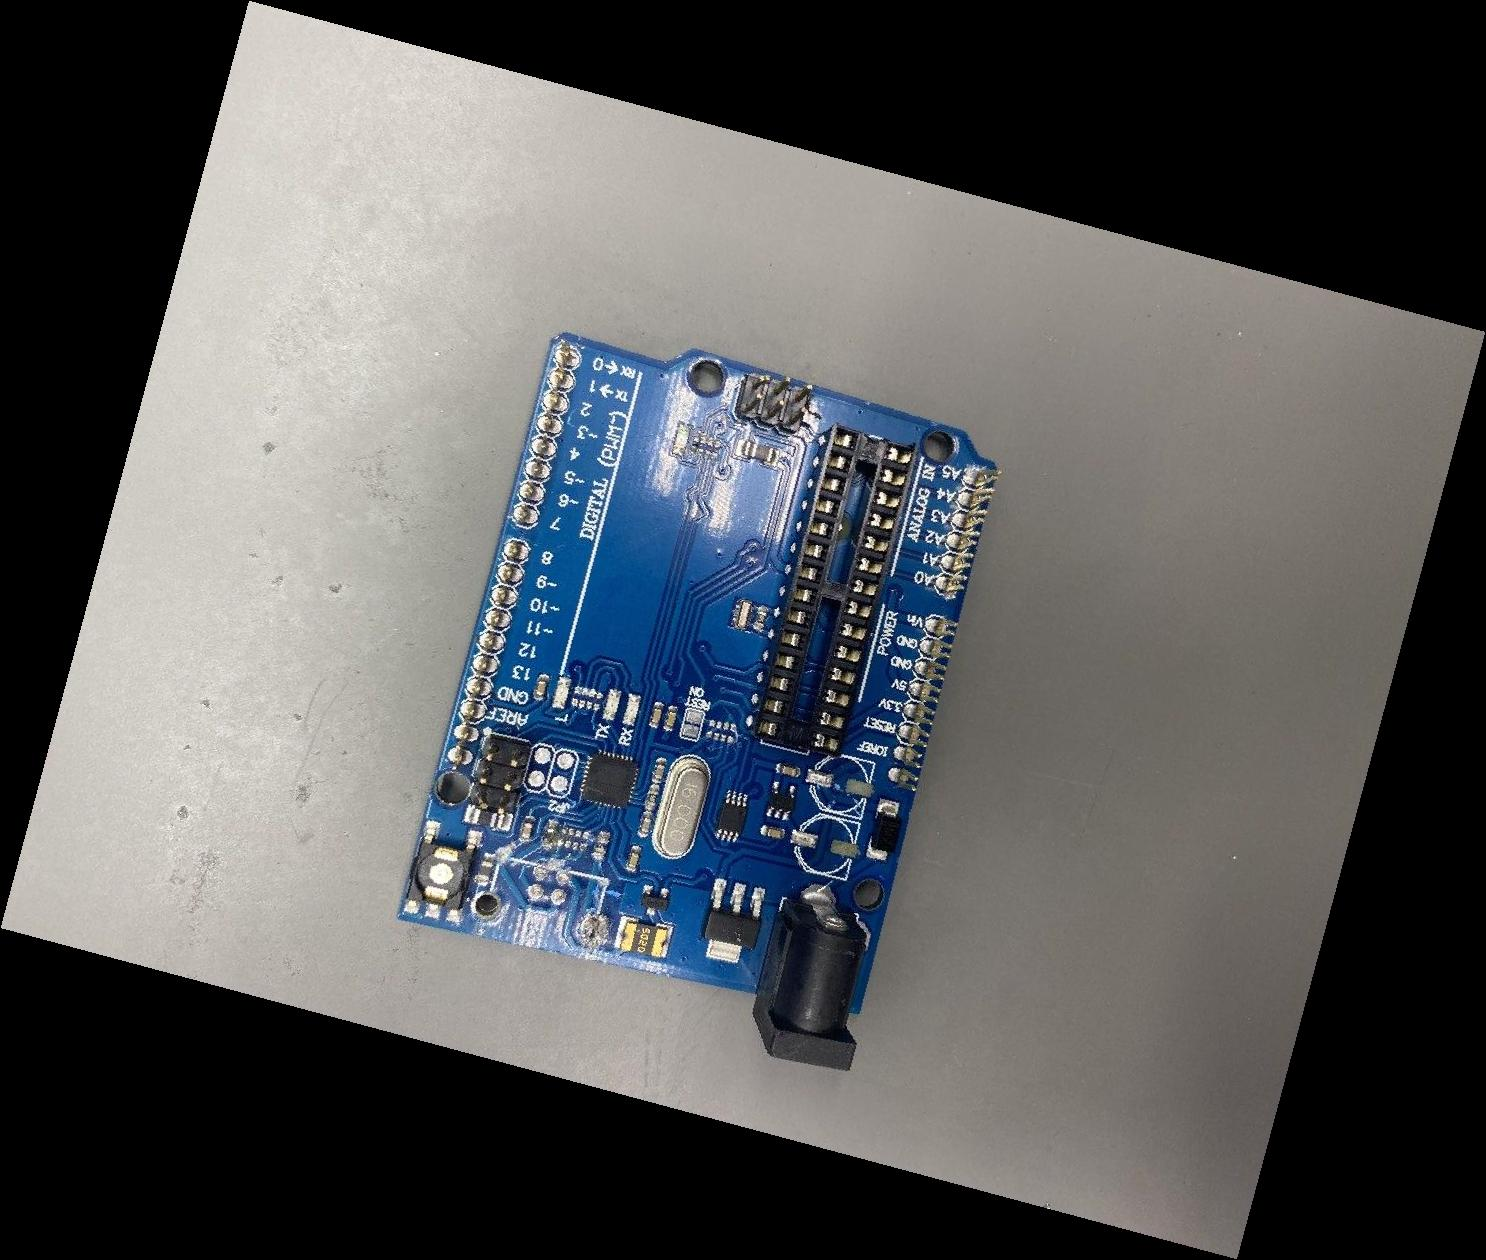Arduino board: (396, 331, 1001, 1072)
